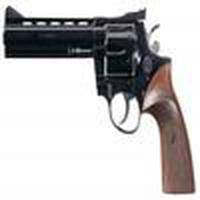gun: (2, 11, 200, 196)
